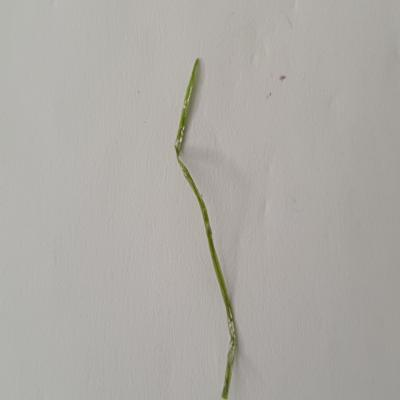thread: (168, 50, 245, 400)
